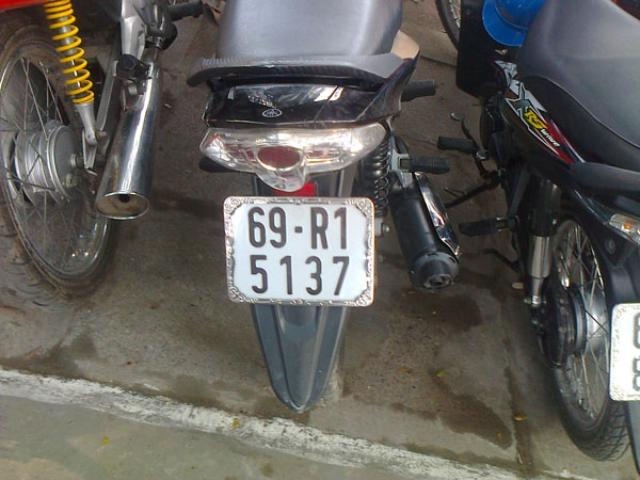plate: (233, 201, 369, 301)
